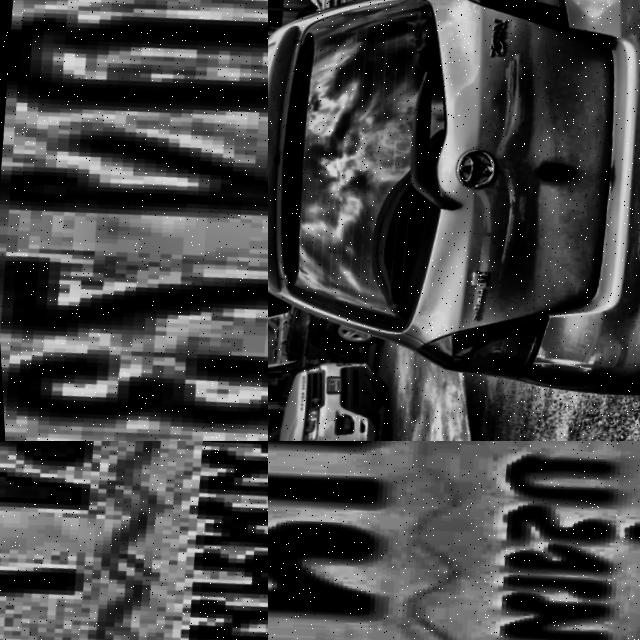license-plate: (0, 0, 268, 441), (268, 441, 640, 640), (0, 441, 268, 640), (314, 376, 335, 399)
